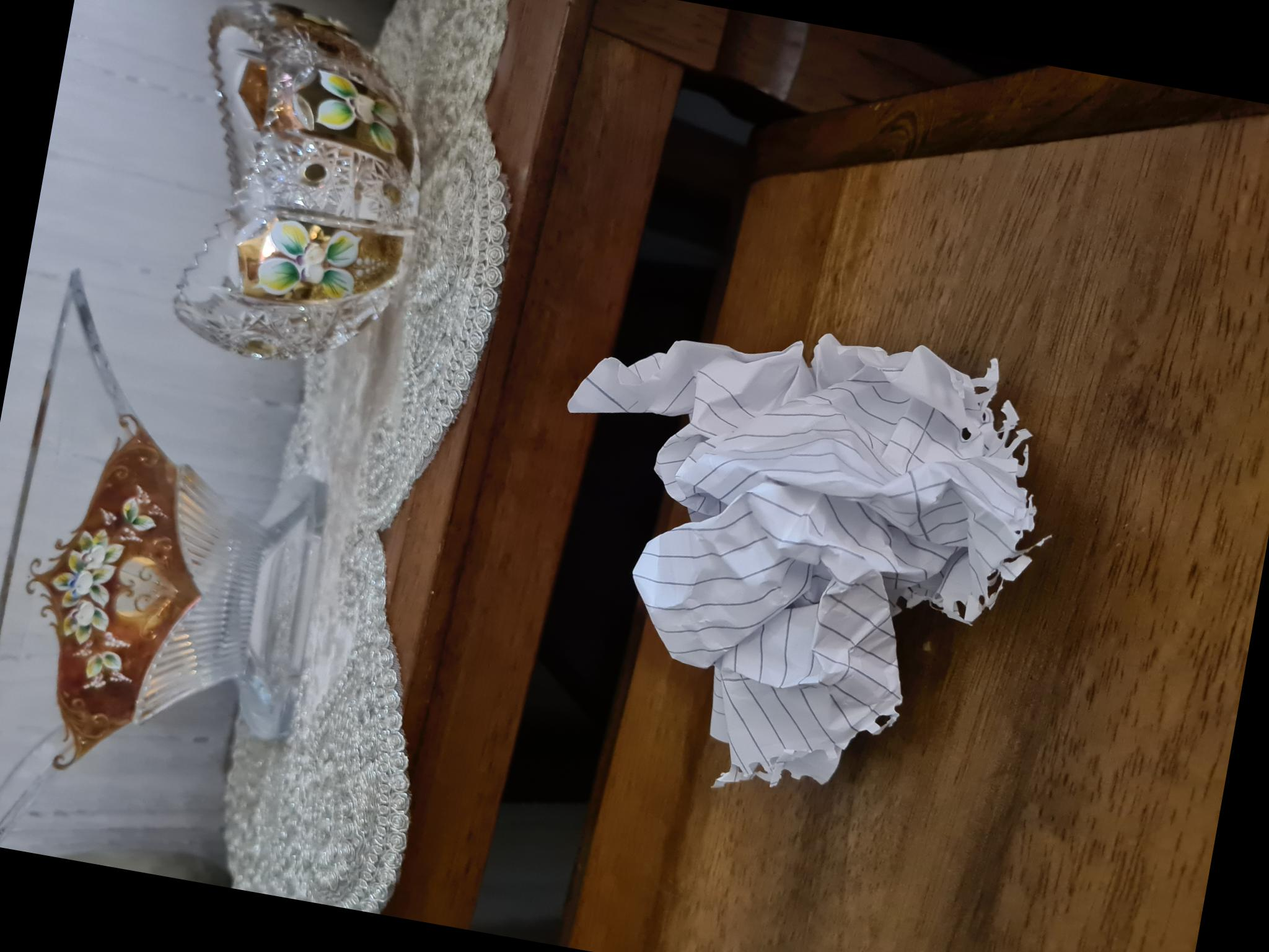Kertas: (133, 511, 601, 949)
